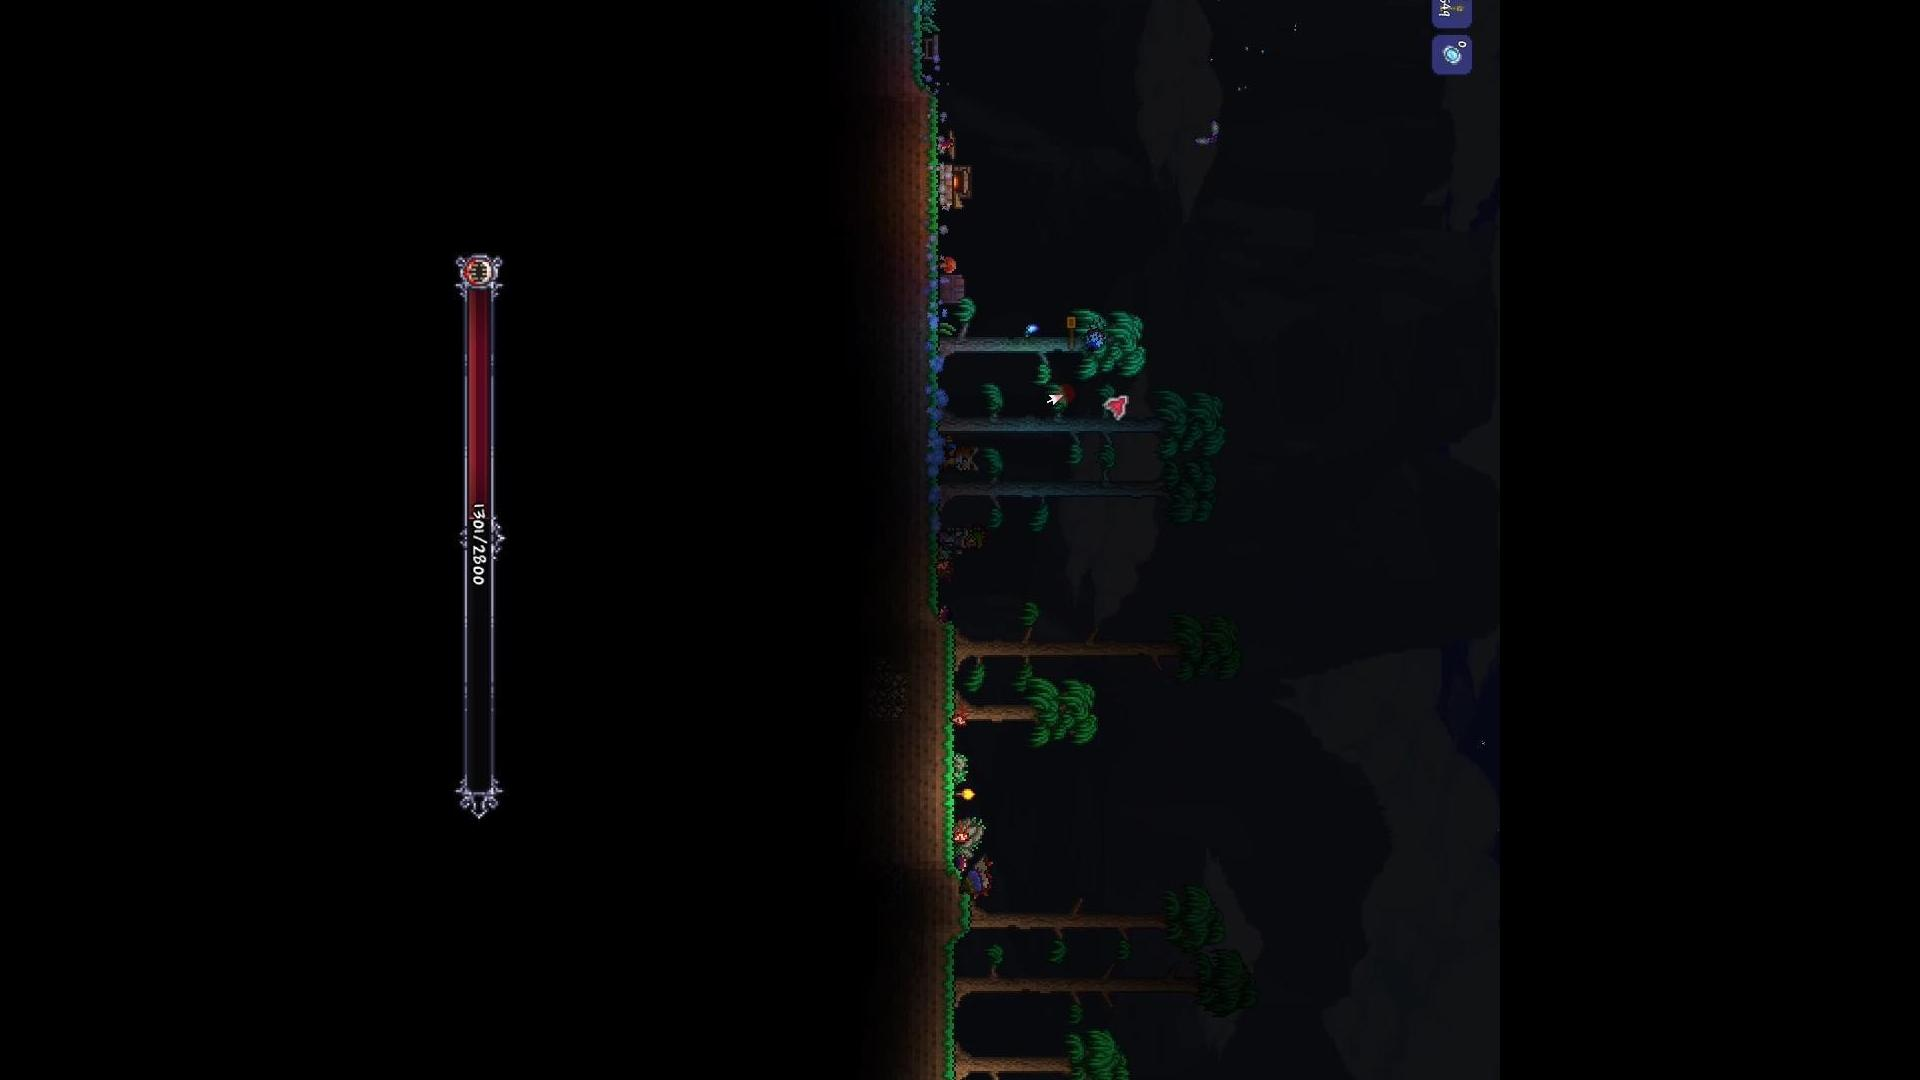anvil: (924, 127, 964, 165)
chest: (938, 270, 971, 313)
eye: (1068, 319, 1117, 359)
furnace: (932, 158, 975, 216)
tree: (935, 1023, 1138, 1080)
